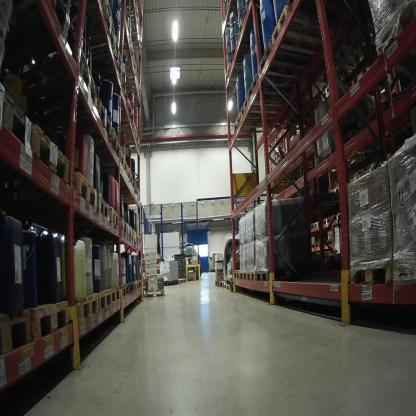pallets: (0, 282, 143, 357), (0, 85, 82, 200), (77, 178, 151, 250), (256, 6, 294, 78), (234, 79, 259, 138), (217, 269, 274, 292), (121, 150, 147, 194)
